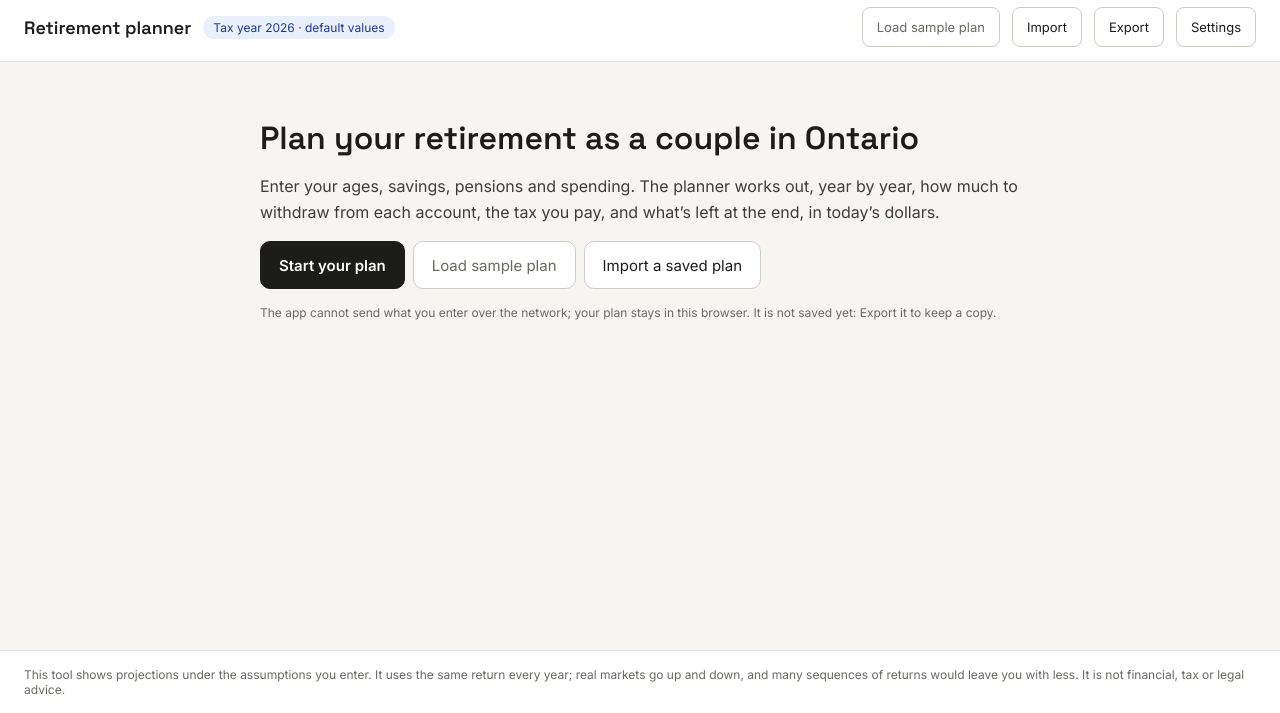
Savings › adds an account of a chosen type and owner
Click the button "Start your plan" at (332, 265), box [260,241,405,289]
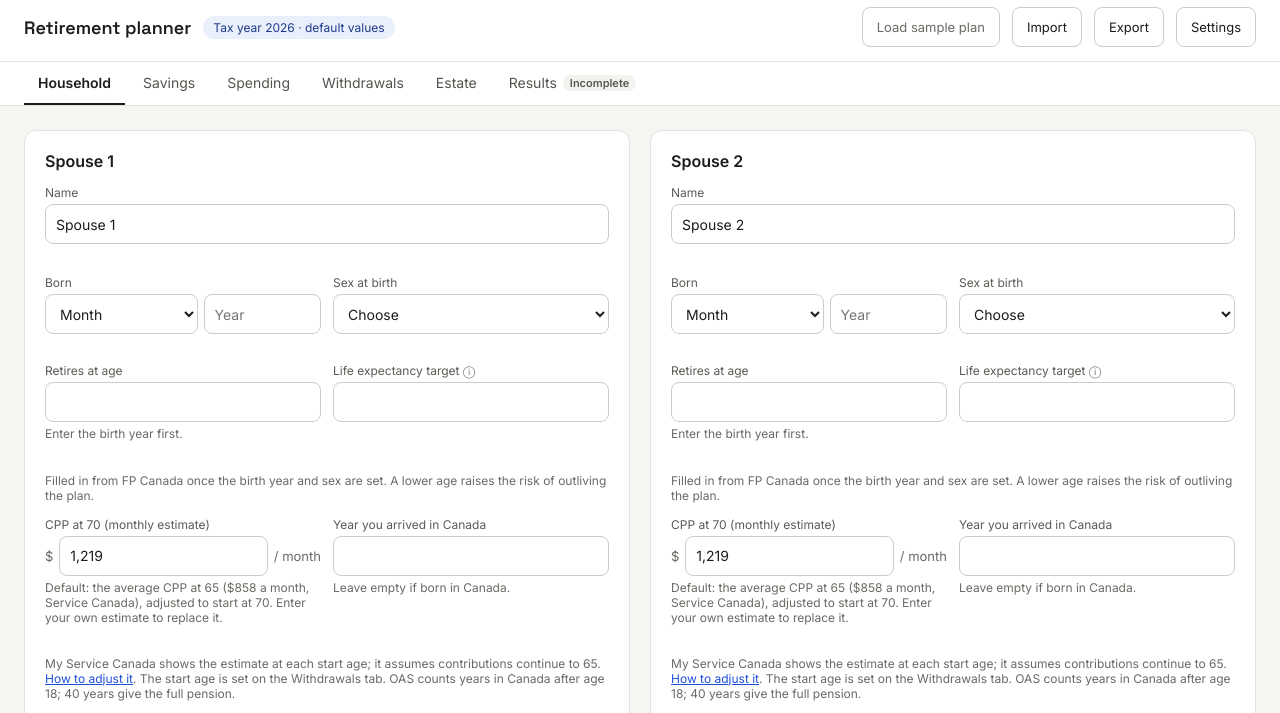
Click the button "Savings" at (169, 84), box [129,62,209,105]
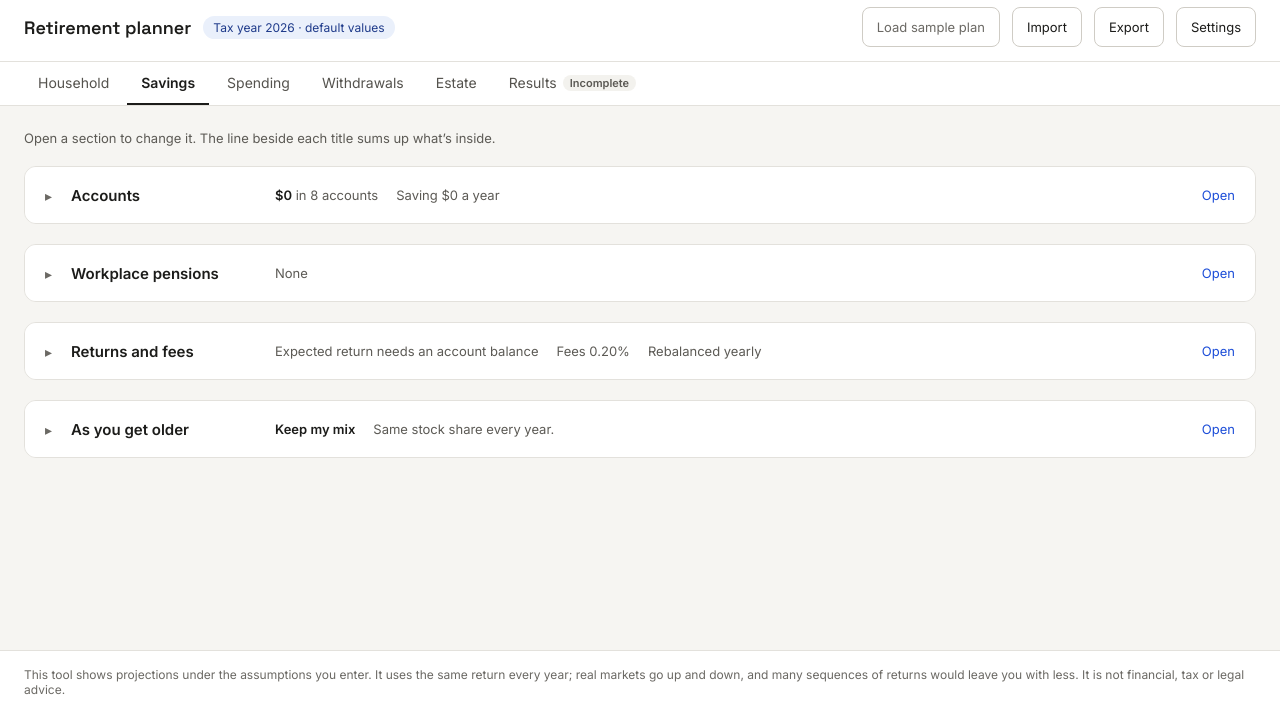
Click the button "▸ Accounts $0 in 8 accounts Saving $0 a year Open" at (106, 195), box [25,167,1255,223]
(page scrolled)
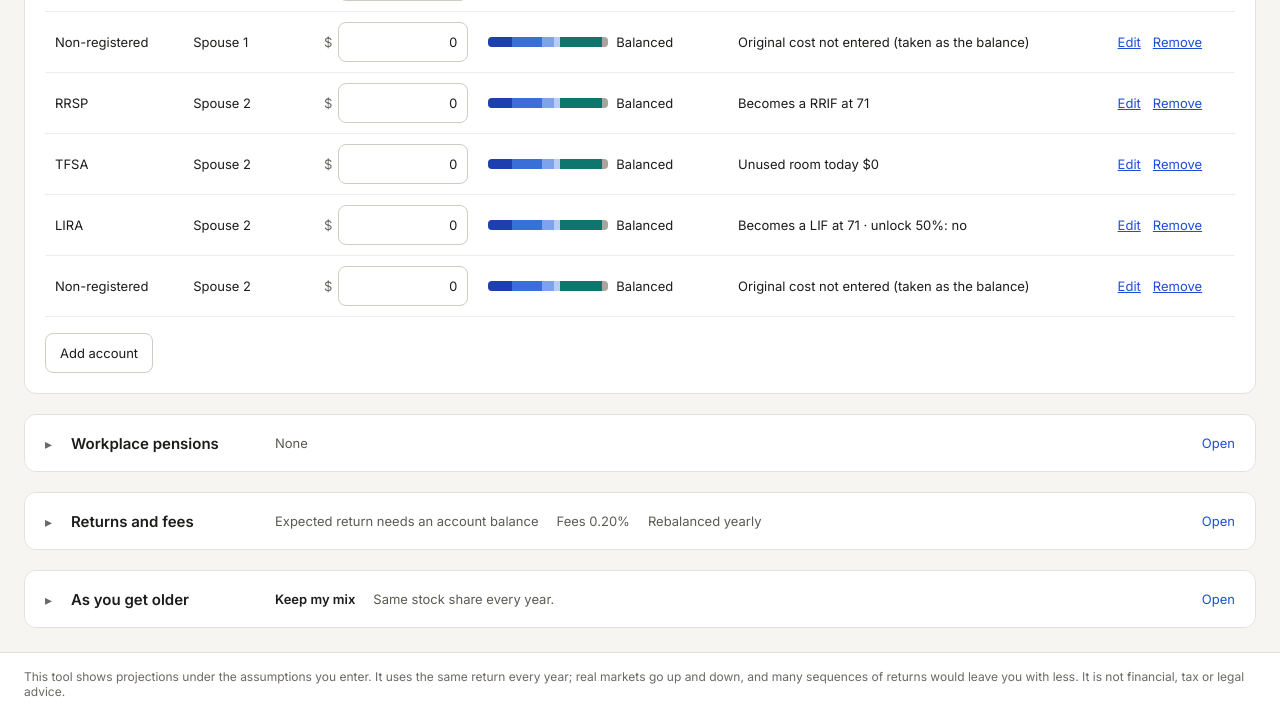
Click the button "Add account" at (99, 353), box [45,333,153,373]
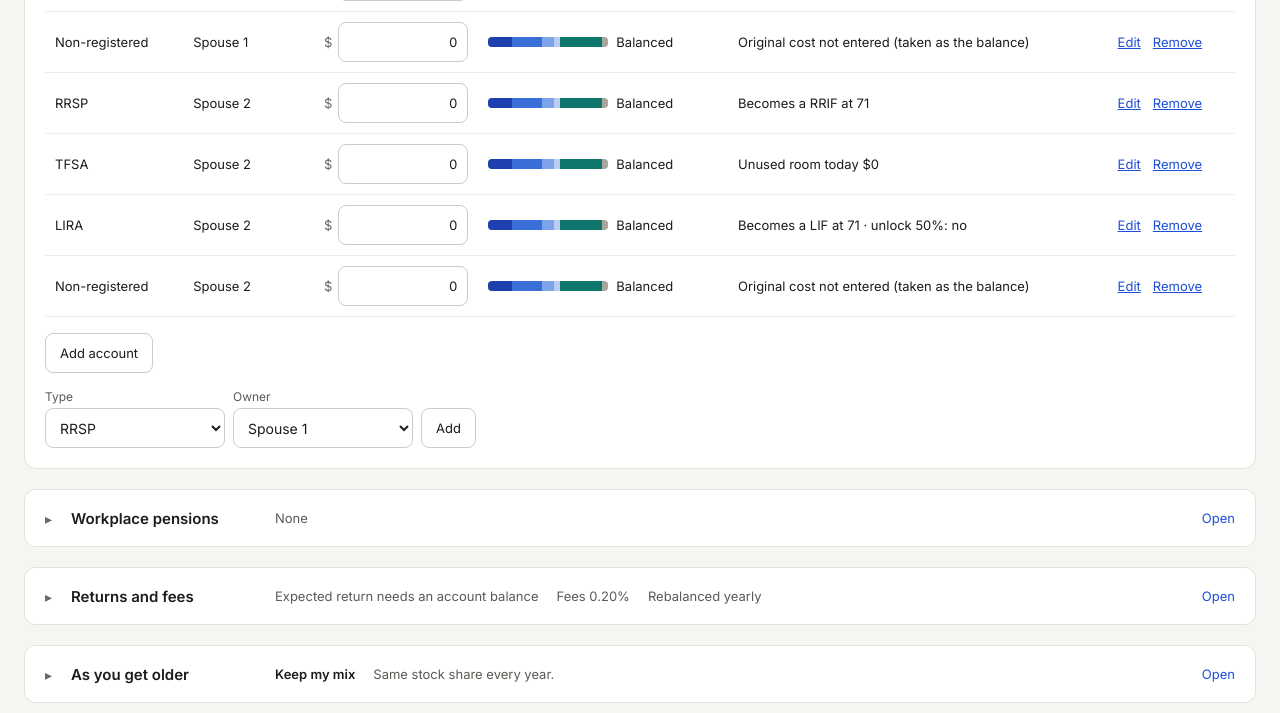
Select "TFSA" in the dropdown labelled "Type" at (135, 428), box [45,408,225,448]
Select "Spouse 2" in the dropdown labelled "Owner" at (323, 428), box [233,408,413,448]
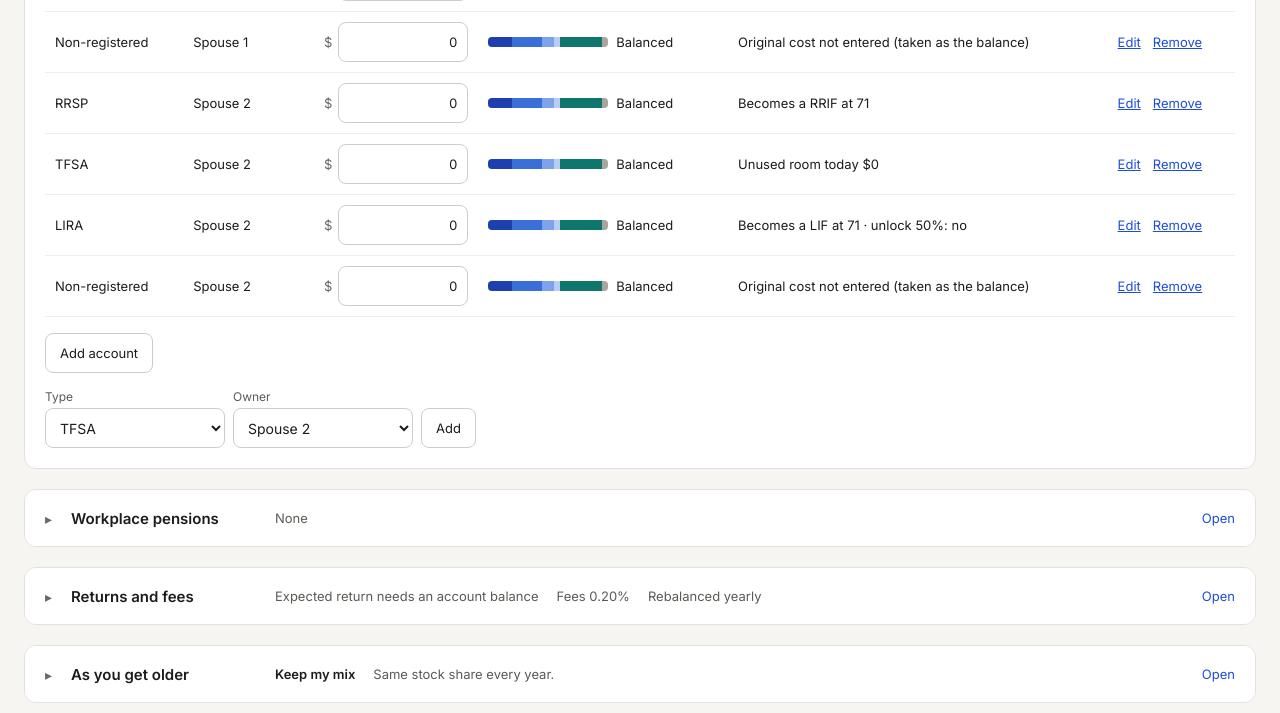
Click the button "Add" at (448, 428), box [421,408,476,448]
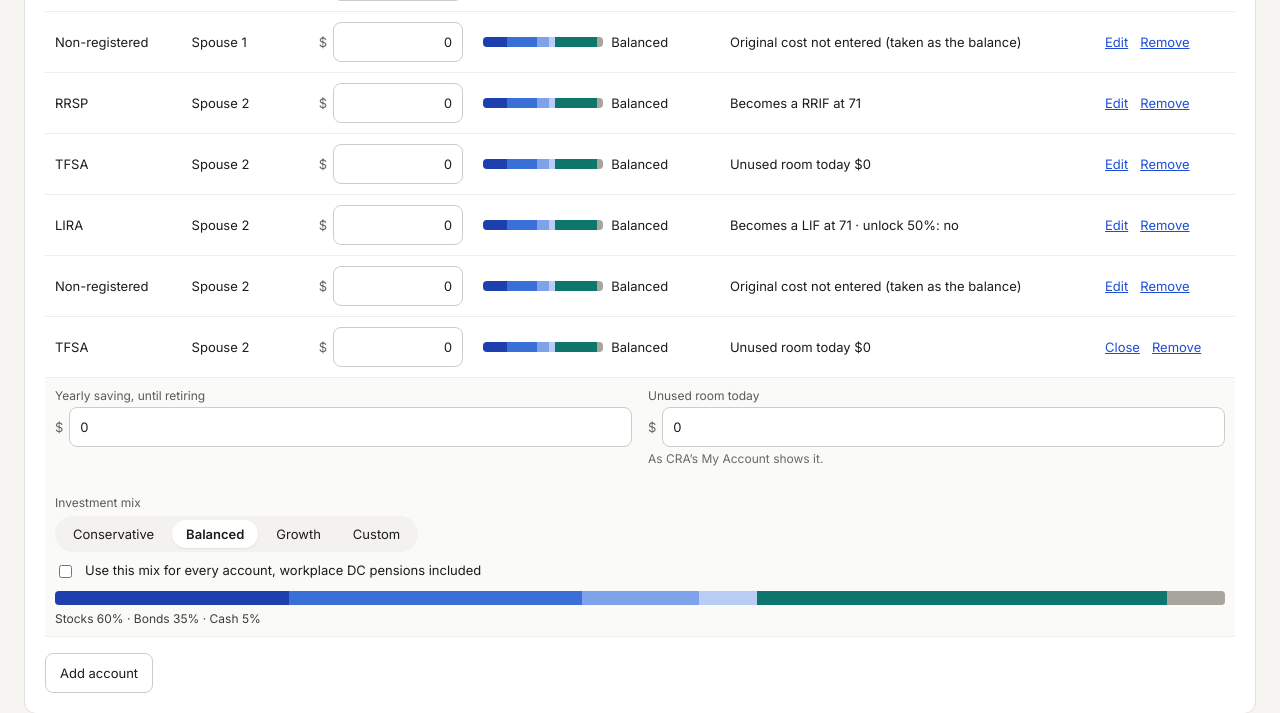
Now the field labelled "Unused room today" is shown, box [662,407,1225,447]
